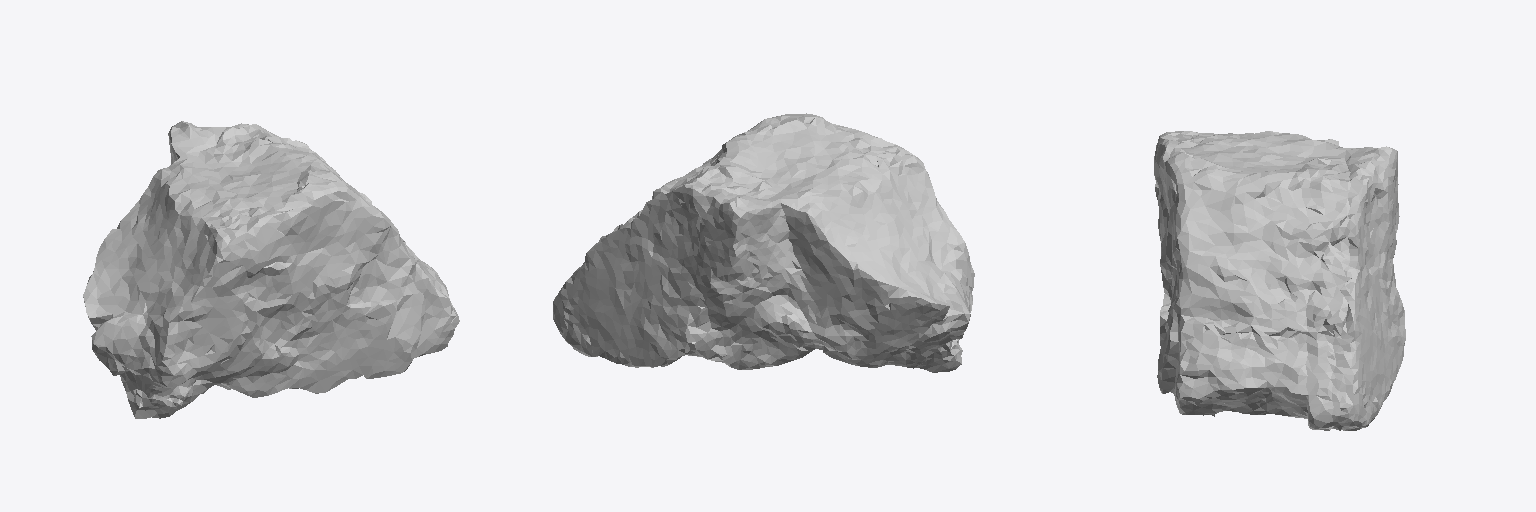
Rendered from rock5.obj.
3 views of the same model, side by side, from view 1: azimuth 30°, elevation 25°; view 2: azimuth 150°, elevation 25°; view 3: azimuth 270°, elevation 25° (orthographic).
Visible parts, largest first — view 1: moss_rock_14; view 2: moss_rock_14; view 3: moss_rock_14.
Part boxes in pixels (left/top/right/bottom): moss_rock_14: left=83, top=121, right=459, bottom=418; moss_rock_14: left=553, top=113, right=974, bottom=372; moss_rock_14: left=1154, top=131, right=1405, bottom=430.
Size of the model in its own units: 2.09 by 1.14 by 1.26.